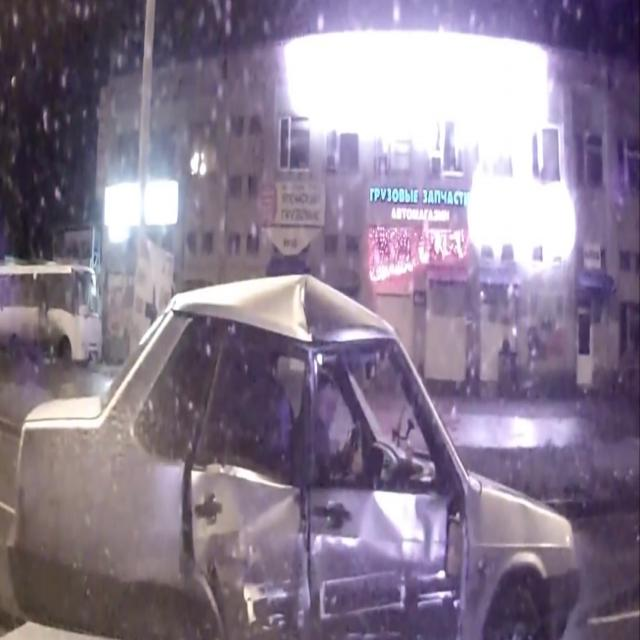accident: (43, 279, 589, 622)
